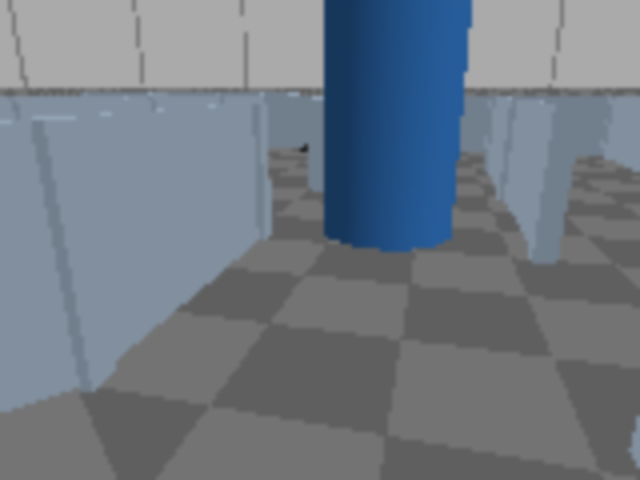obstacle: (0, 388, 188, 478)
